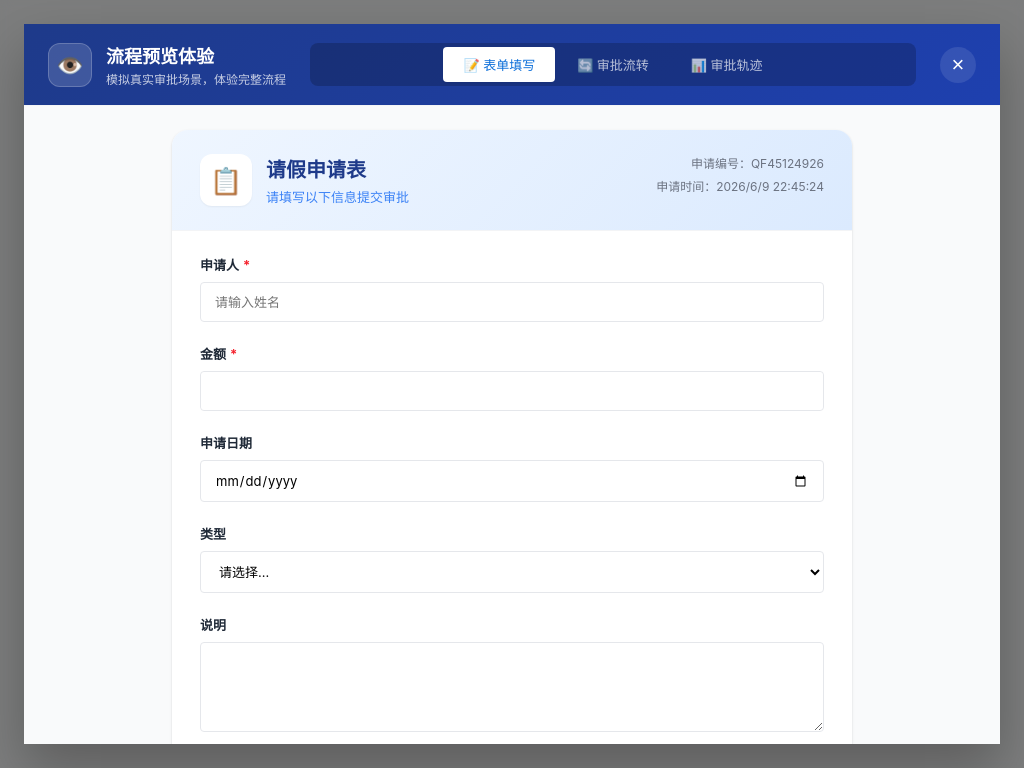
Test case: PreviewPanel › 模式切换：点击"审批轨迹"渲染时间线
This screenshot has width=1024, height=768.
Click the tab "📊 审批轨迹".
click(727, 64)  # box 671,47 -> 782,82
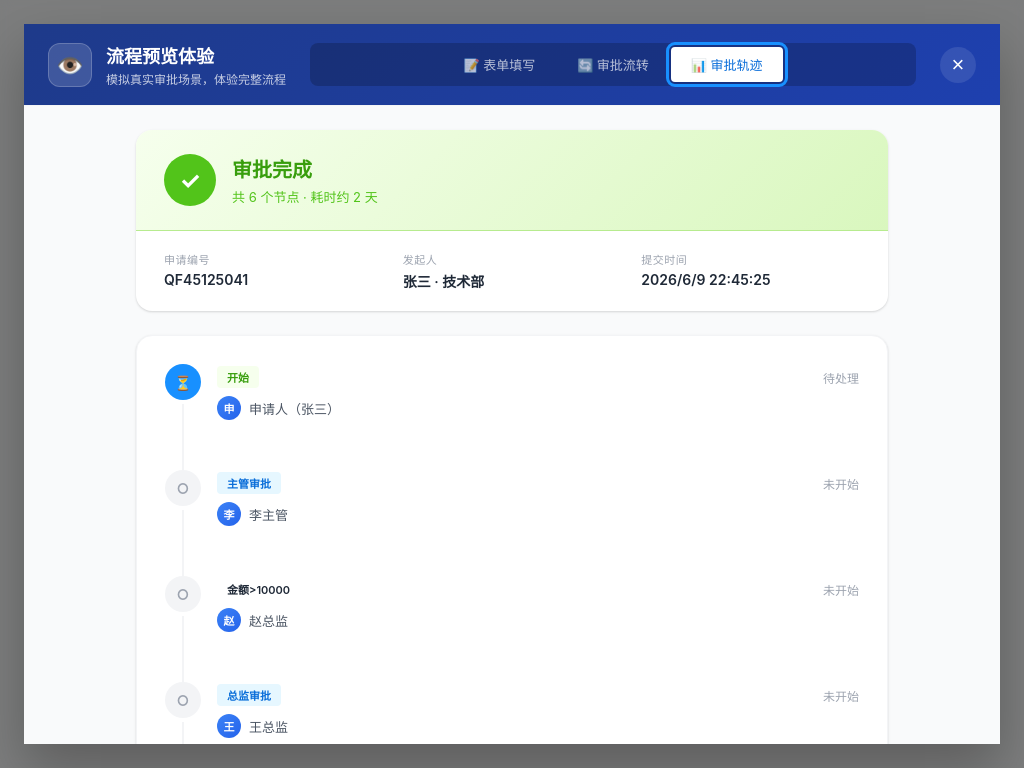
Expected: the heading "审批完成" is shown, 232,158 -> 312,182
Expected: the text "主管审批" is shown, 217,472 -> 281,494
